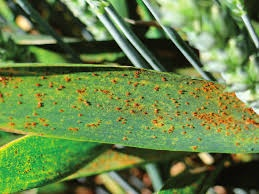Leaf Rust: (34, 71, 232, 146)
